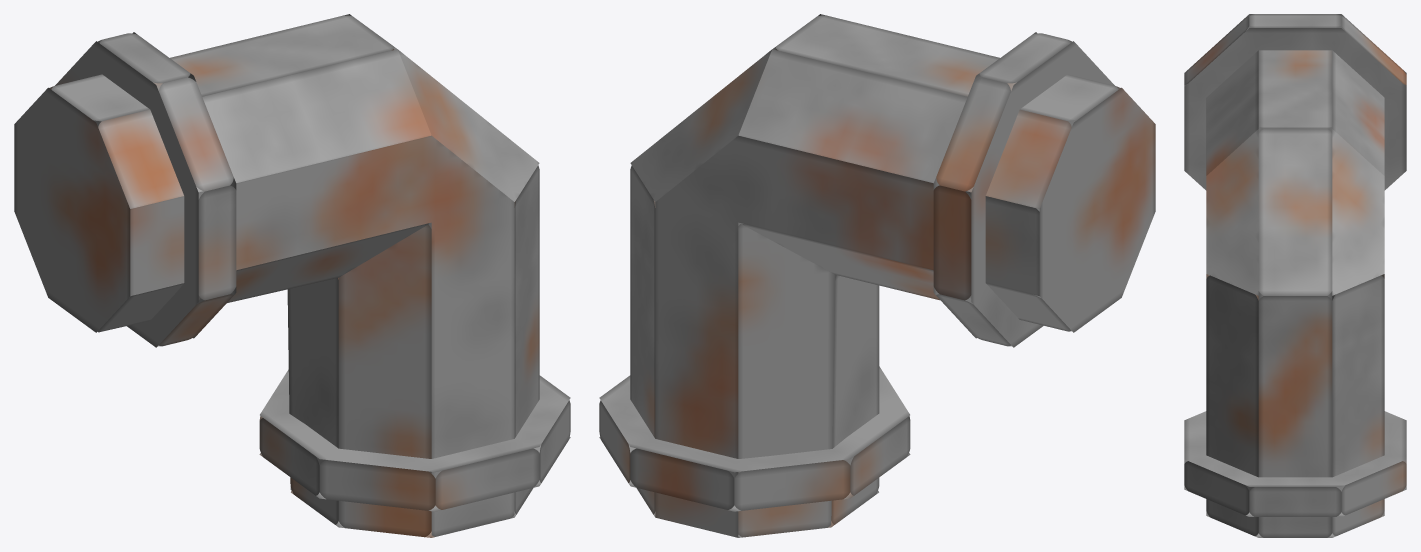
Rendered from pipeTurn90.obj.
The picture shows the model from 3 angles, left to right: view 1: azimuth 30°, elevation 25°; view 2: azimuth 150°, elevation 25°; view 3: azimuth 270°, elevation 25°; orthographic projection. The views are drawn at different scales.
Parts seen in each view (by area): view 1: cylinder; view 2: cylinder; view 3: cylinder.
Boxes of the visible parts, x1=… form: cylinder: x1=14, y1=14, x2=570, y2=537; cylinder: x1=599, y1=14, x2=1155, y2=537; cylinder: x1=1184, y1=14, x2=1406, y2=537.
Bounding box in the file's own units: 2.33 × 2.34 × 1.25.
